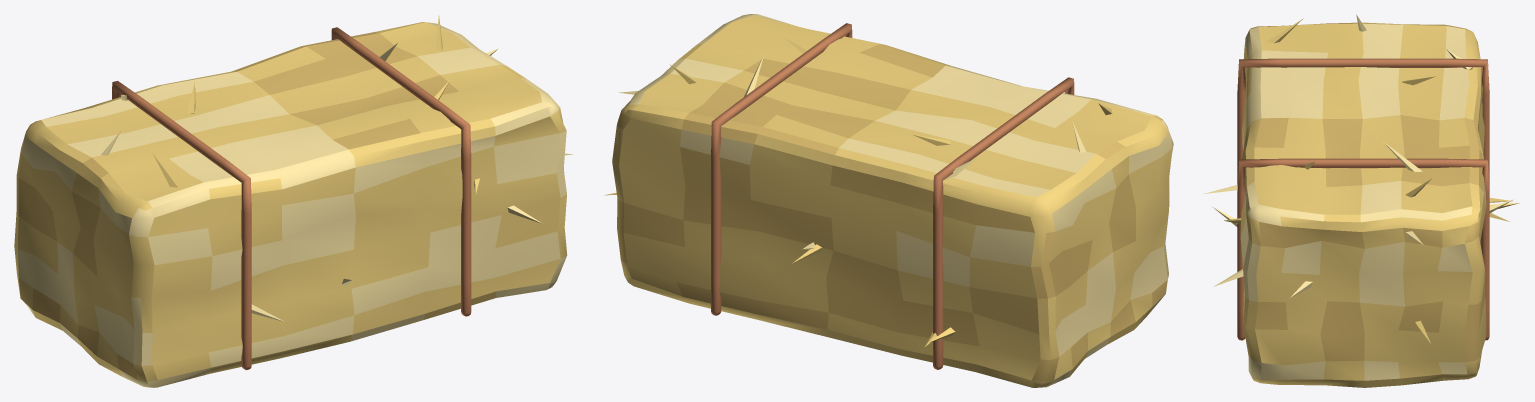
Rendered from hay_bale.glb.
The picture shows the model from 3 angles, left to right: view 1: azimuth 30°, elevation 25°; view 2: azimuth 150°, elevation 25°; view 3: azimuth 270°, elevation 25°; orthographic projection. The views are drawn at different scales.
Parts seen in each view (by area): view 1: hay_bale; view 2: hay_bale; view 3: hay_bale.
Boxes of the visible parts, left/top/right/bottom form: hay_bale: left=14, top=15, right=572, bottom=387; hay_bale: left=604, top=14, right=1173, bottom=387; hay_bale: left=1204, top=14, right=1519, bottom=387.
Size of the model in its own units: 1.2 by 0.5374 by 0.7526.
